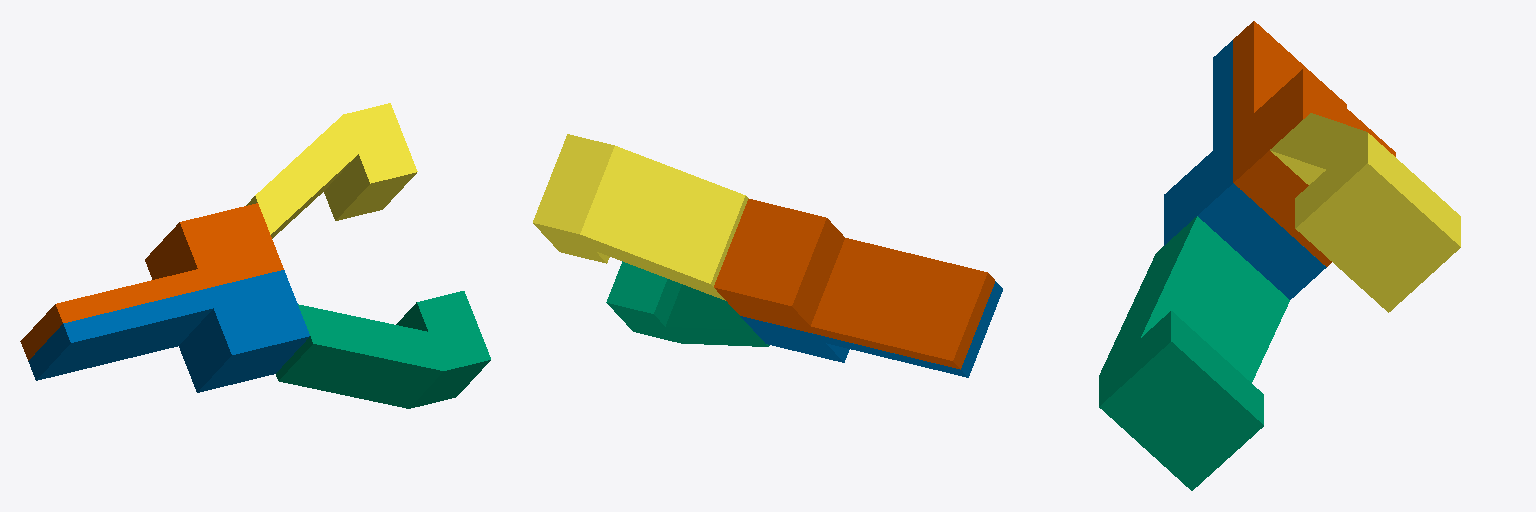
robot.urdf — panda:
<?xml version="1.0" ?>

<!-- =================================================================================== -->
<!-- |    This document was autogenerated by xacro from panda_arm.urdf.xacro           | -->
<!-- |    EDITING THIS FILE BY HAND IS NOT RECOMMENDED                                 | -->
<!-- =================================================================================== -->
<robot name="panda" xmlns:xacro="http://www.ros.org/wiki/xacro">
  <link name="panda_link0">
    <visual>
      <geometry>
        <mesh filename="meshes/visual/link0.dae"/>
      </geometry>
    </visual>
    <collision>
      <geometry>
        <mesh filename="meshes/collision/link0.stl"/>
      </geometry>
    </collision>
    <inertial>
        <mass value="3.06"/>
        <inertia ixx="0.3" ixy="0.0" ixz="0.0" iyy="0.3" iyz="0.0" izz="0.3"/>
      </inertial>
  </link>
  <link name="panda_link1">
    <visual>
      <geometry>
        <mesh filename="meshes/visual/link1.dae"/>
      </geometry>
    </visual>
    <collision>
      <geometry>
        <mesh filename="meshes/collision/link1.stl"/>
      </geometry>
    </collision>
    <inertial>
        <mass value="2.34"/>
        <inertia ixx="0.3" ixy="0.0" ixz="0.0" iyy="0.3" iyz="0.0" izz="0.3"/>
      </inertial>
  </link>
  <joint name="panda_joint1" type="revolute">
    <safety_controller k_position="100.0" k_velocity="40.0" soft_lower_limit="-2.8973" soft_upper_limit="2.8973"/>
    <origin rpy="0 0 0" xyz="0 0 0.333"/>
    <parent link="panda_link0"/>
    <child link="panda_link1"/>
    <axis xyz="0 0 1"/>
    <dynamics damping="1.0" />
    <limit effort="87" lower="-2.8973" upper="2.8973" velocity="2.1750"/>
  </joint>
  <link name="panda_link2">
    <visual>
      <geometry>
        <mesh filename="meshes/visual/link2.dae"/>
      </geometry>
    </visual>
    <collision>
      <geometry>
        <mesh filename="meshes/collision/link2.stl"/>
      </geometry>
    </collision>
    <inertial>
        <mass value="2.36"/>
        <inertia ixx="0.3" ixy="0.0" ixz="0.0" iyy="0.3" iyz="0.0" izz="0.3"/>
      </inertial>
  </link>
  <joint name="panda_joint2" type="revolute">
    <safety_controller k_position="100.0" k_velocity="40.0" soft_lower_limit="-1.7628" soft_upper_limit="1.7628"/>
    <origin rpy="-1.57079632679 0 0" xyz="0 0 0"/>
    <!-- <origin rpy="-1.57079632679 1.5 0" xyz="0 0 0"/> -->
    <parent link="panda_link1"/>
    <child link="panda_link2"/>
    <axis xyz="0 0 1"/>
    <dynamics damping="1.0" />
    <limit effort="87" lower="-1.7628" upper="1.7628" velocity="2.1750"/>
  </joint>
  <link name="panda_link3">
    <visual>
      <geometry>
        <mesh filename="meshes/visual/link3.dae"/>
      </geometry>
    </visual>
    <collision>
      <geometry>
        <mesh filename="meshes/collision/link3.stl"/>
      </geometry>
    </collision>
    <inertial>
        <mass value="2.38"/>
        <inertia ixx="0.3" ixy="0.0" ixz="0.0" iyy="0.3" iyz="0.0" izz="0.3"/>
      </inertial>

  </link>
  <joint name="panda_joint3" type="revolute">
    <safety_controller k_position="100.0" k_velocity="40.0" soft_lower_limit="-2.8973" soft_upper_limit="2.8973"/>
    <origin rpy="1.57079632679 0 0" xyz="0 -0.316 0"/>
    <parent link="panda_link2"/>
    <child link="panda_link3"/>
    <axis xyz="0 0 1"/>
    <dynamics damping="1.0" />
    <limit effort="87" lower="-2.8973" upper="2.8973" velocity="2.1750"/>
  </joint>
  <link name="panda_link4">
    <visual>
      <geometry>
        <mesh filename="meshes/visual/link4.dae"/>
      </geometry>
    </visual>
    <collision>
      <geometry>
        <mesh filename="meshes/collision/link4.stl"/>
      </geometry>
    </collision>
    <inertial>
      <mass value="2.43"/>
      <inertia ixx="0.3" ixy="0.0" ixz="0.0" iyy="0.3" iyz="0.0" izz="0.3"/>
      </inertial>
  </link>
  <joint name="panda_joint4" type="revolute">
    <safety_controller k_position="100.0" k_velocity="40.0" soft_lower_limit="-3.0718" soft_upper_limit="-0.0698"/>
    <origin rpy="1.57079632679 0 0" xyz="0.0825 0 0"/>
    <parent link="panda_link3"/>
    <child link="panda_link4"/>
    <axis xyz="0 0 1"/>
    <dynamics damping="1.0" />
    <limit effort="87" lower="-3.0718" upper="-0.0698" velocity="2.1750"/>
  </joint>
  <link name="panda_link5">
    <visual>
      <geometry>
        <mesh filename="meshes/visual/link5.dae"/>
      </geometry>
    </visual>
    <collision>
      <geometry>
        <mesh filename="meshes/collision/link5.stl"/>
      </geometry>
    </collision>
    <inertial>
        <mass value="3.5"/>
        <inertia ixx="0.3" ixy="0.0" ixz="0.0" iyy="0.3" iyz="0.0" izz="0.3"/>
      </inertial>
  </link>

  <joint name="panda_joint5" type="revolute">
    <safety_controller k_position="100.0" k_velocity="40.0" soft_lower_limit="-2.8973" soft_upper_limit="2.8973"/>
    <origin rpy="-1.57079632679 0 0" xyz="-0.0825 0.384 0"/>
    <parent link="panda_link4"/>
    <child link="panda_link5"/>
    <axis xyz="0 0 1"/>
    <dynamics damping="1.0" />
    <limit effort="12" lower="-2.8973" upper="2.8973" velocity="2.6100"/>
  </joint>
  <link name="panda_link6">
    <visual>
      <geometry>
        <mesh filename="meshes/visual/link6.dae"/>
      </geometry>
    </visual>
    <collision>
      <geometry>
        <mesh filename="meshes/collision/link6.stl"/>
      </geometry>
    </collision>
     <inertial>
        <mass value="1.47"/>
        <inertia ixx="0.3" ixy="0.0" ixz="0.0" iyy="0.3" iyz="0.0" izz="0.3"/>
      </inertial>
  </link>
  <joint name="panda_joint6" type="revolute">
    <safety_controller k_position="100.0" k_velocity="40.0" soft_lower_limit="-0.0175" soft_upper_limit="3.7525"/>
    <origin rpy="1.57079632679 0 0" xyz="0 0 0"/>
    <parent link="panda_link5"/>
    <child link="panda_link6"/>
    <axis xyz="0 0 1"/>
    <dynamics damping="1.0" />
    <limit effort="12" lower="-0.0175" upper="3.7525" velocity="2.6100"/>
  </joint>
  <link name="panda_link7">
    <visual>
      <geometry>
        <mesh filename="meshes/visual/link7.dae"/>
      </geometry>
    </visual>
    <collision>
      <geometry>
        <mesh filename="meshes/collision/link7.stl"/>
      </geometry>
    </collision>
    <inertial>
        <mass value="0.45"/>
        <inertia ixx="0.3" ixy="0.0" ixz="0.0" iyy="0.3" iyz="0.0" izz="0.3"/>
      </inertial>
  </link>
  <joint name="panda_joint7" type="revolute">
    <safety_controller k_position="100.0" k_velocity="40.0" soft_lower_limit="-2.8973" soft_upper_limit="2.8973"/>
    <origin rpy="1.57079632679 0 0" xyz="0.088 0 0"/>
    <parent link="panda_link6"/>
    <child link="panda_link7"/>
    <axis xyz="0 0 1"/>
    <dynamics damping="1.0" />
    <limit effort="12" lower="-2.8973" upper="2.8973" velocity="2.6100"/>
  </joint>
  <link name="panda_link8">
    <inertial>
      <mass value="0.001"/>
      <inertia ixx="0.3" ixy="0.0" ixz="0.0" iyy="0.3" iyz="0.0" izz="0.3"/>
      </inertial>
  </link>
  <joint name="panda_joint8" type="fixed">
    <origin rpy="0 0 0" xyz="0 0 0.107"/>
    <parent link="panda_link7"/>
    <child link="panda_link8"/>
    <axis xyz="0 0 0"/>
    <dynamics damping="100" />
  </joint>
  <joint name="panda_hand_joint" type="fixed">
    <parent link="panda_link8"/>
    <child link="panda_hand"/>
    <origin rpy="0 0 -0.785" xyz="0 0 0"/>
  </joint>
  <!-- <joint name="panda_hand_joint" type="revolute">
    <parent link="panda_link8"/>
    <child link="panda_hand"/>
    <origin rpy="0 0 0" xyz="0 0 0"/>
    <axis xyz="0 0 1"/>
    <limit effort="12" lower="-0.78" upper="-0.78" velocity="0.01"/>
  </joint> -->
  <link name="panda_hand">
    <visual>
      <geometry>
        <mesh filename="meshes/visual/hand.dae"/>
      </geometry>
    </visual>
    <collision>
      <geometry>
        <mesh filename="meshes/collision/hand.stl"/>
      </geometry>
    </collision>
     <inertial>
        <mass value="0.68"/>
        <inertia ixx="0.1" ixy="0.0" ixz="0.0" iyy="0.1" iyz="0.0" izz="0.1"/>
      </inertial>
  </link>

  <link name="panda_leftfinger_upper">
    <visual>
      <origin rpy="0 0 0" xyz="0 0 0"/>
      <geometry>
        <mesh filename="meshes/collision/finger_upper_v2.stl"/>
      </geometry>
    </visual>
    <collision>
      <origin rpy="0 0 0" xyz="0 0 0"/>
      <geometry>
        <mesh filename="meshes/collision/finger_upper_v2.stl"/>
      </geometry>
    </collision>
    <inertial>
        <mass value="0.01"/>
        <inertia ixx="0.1" ixy="0.0" ixz="0.0" iyy="0.1" iyz="0.0" izz="0.1"/>
      </inertial>
  </link>
  <link name="panda_rightfinger_upper">
    <visual>
      <origin rpy="0 0 3.14" xyz="0 0 0"/>
      <geometry>
        <mesh filename="meshes/collision/finger_upper_v2.stl"/>
      </geometry>
    </visual>
    <collision>
      <origin rpy="0 0 3.14" xyz="0 0 0"/>
      <geometry>
        <mesh filename="meshes/collision/finger_upper_v2.stl"/>
      </geometry>
    </collision>
    <inertial>
        <mass value="0.01"/>
        <inertia ixx="0.1" ixy="0.0" ixz="0.0" iyy="0.1" iyz="0.0" izz="0.1"/>
      </inertial>
  </link>
  <joint name="panda_finger_joint1" type="prismatic">
    <parent link="panda_hand"/>
    <child link="panda_leftfinger_upper"/>
    <origin rpy="0 0 0" xyz="0 0 0.065"/>
    <axis xyz="0 1 0"/>
    <limit effort="20" lower="0" upper="0.04" velocity="10"/>
  </joint>
  <joint name="panda_finger_joint2" type="prismatic">
    <parent link="panda_hand"/>
    <child link="panda_rightfinger_upper"/>
    <origin rpy="0 0 0" xyz="0 0 0.065"/>
    <axis xyz="0 -1 0"/>
    <limit effort="20" lower="0" upper="0.04" velocity="10"/>
    <mimic joint="panda_finger_joint1"/>
  </joint>

  <link name="panda_leftfinger_lower">
    <visual>
      <origin rpy="0 0 0" xyz="0 0 0.029"/>
      <geometry>
        <!-- <box size="0.018 0.015 0.108"/> -->
        <mesh filename="meshes/collision/franka_finger_lower_orig.stl"/>
      </geometry>
    </visual>
    <collision>
      <origin rpy="0 0 0" xyz="0 0 0.029"/>
      <geometry>
        <!-- <box size="0.018 0.015 0.108"/> -->
        <mesh filename="meshes/collision/franka_finger_lower_orig.stl"/>
      </geometry>
    </collision>
    <inertial>
        <mass value="0.01"/>
        <inertia ixx="0.1" ixy="0.0" ixz="0.0" iyy="0.1" iyz="0.0" izz="0.1"/>
      </inertial>
		<!-- <contact>
			<stiffness value="3000.0"/>
			<damping value="100.0"/>
		</contact> -->
  </link>
  <link name="panda_rightfinger_lower">
    <visual>
      <origin rpy="0 0 3.14" xyz="0 0 0.029"/>
      <geometry>
        <!-- <box size="0.018 0.015 0.108"/> -->
        <mesh filename="meshes/collision/franka_finger_lower_orig.stl"/>
      </geometry>
    </visual>
    <collision>
      <origin rpy="0 0 3.14" xyz="0 0 0.029"/>
      <geometry>
        <mesh filename="meshes/collision/franka_finger_lower_orig.stl"/>
        <!-- <box size="0.018 0.015 0.108"/> -->
      </geometry>
    </collision>
    <inertial>
        <mass value="0.01"/>
        <inertia ixx="0.1" ixy="0.0" ixz="0.0" iyy="0.1" iyz="0.0" izz="0.1"/>
      </inertial>
		<!-- <contact>
			<stiffness value="3000.0"/>
			<damping value="100.0"/>
		</contact> -->
  </link>
  <joint name="panda_finger_lower_joint1" type="fixed">
    <parent link="panda_leftfinger_upper"/>
    <child link="panda_leftfinger_lower"/>
    <origin rpy="0 0 0" xyz="0 0 0"/>
  </joint>
  <joint name="panda_finger_lower_joint2" type="fixed">
    <parent link="panda_rightfinger_upper"/>
    <child link="panda_rightfinger_lower"/>
    <origin rpy="0 0 0" xyz="0 0 0"/>
    <mimic joint="panda_finger_lower_joint1"/>
  </joint>
</robot>

--- Facts derived from the render (not from the file) ---
Views: 3 orthographic renders of the robot side by side, from view 1: azimuth 30°, elevation 25°; view 2: azimuth 150°, elevation 25°; view 3: azimuth 270°, elevation 25°.
Model panda with 14 links and 13 joints (7 revolute, 2 prismatic, 4 fixed), rooted at panda_link0, posed joints at zero except 1 at the middle of their limits (panda_joint4 = -1.57).
Links seen in each view (by area): view 1: panda_leftfinger_lower, panda_leftfinger_upper, panda_rightfinger_upper, panda_rightfinger_lower; view 2: panda_rightfinger_lower, panda_rightfinger_upper, panda_leftfinger_upper, panda_leftfinger_lower; view 3: panda_leftfinger_upper, panda_rightfinger_upper, panda_rightfinger_lower, panda_leftfinger_lower.
Link boxes in pixels (box(x1,y1,x2,y2)): panda_leftfinger_lower: box(28, 270, 309, 392); panda_leftfinger_upper: box(276, 291, 490, 408); panda_rightfinger_upper: box(246, 103, 417, 238); panda_rightfinger_lower: box(20, 203, 283, 360); panda_rightfinger_lower: box(714, 199, 994, 369); panda_rightfinger_upper: box(533, 134, 748, 300); panda_leftfinger_upper: box(606, 261, 769, 346); panda_leftfinger_lower: box(740, 281, 1002, 377); panda_leftfinger_upper: box(1099, 216, 1289, 490); panda_rightfinger_upper: box(1270, 113, 1460, 312); panda_rightfinger_lower: box(1233, 21, 1395, 266); panda_leftfinger_lower: box(1164, 40, 1326, 299).
Size in the robot's own frame: 0.0795 by 0.0495 by 0.0495 metres.
Meshes: 11 distinct files referenced, 4 mesh visuals loaded (2 binary STL); not drawn: 9 (reference not matched to a file when rendering).